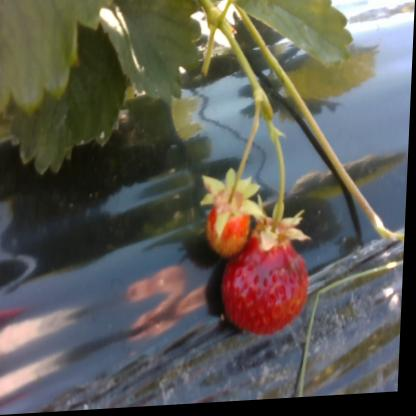ripe: (222, 231, 319, 341), (207, 192, 252, 257)
